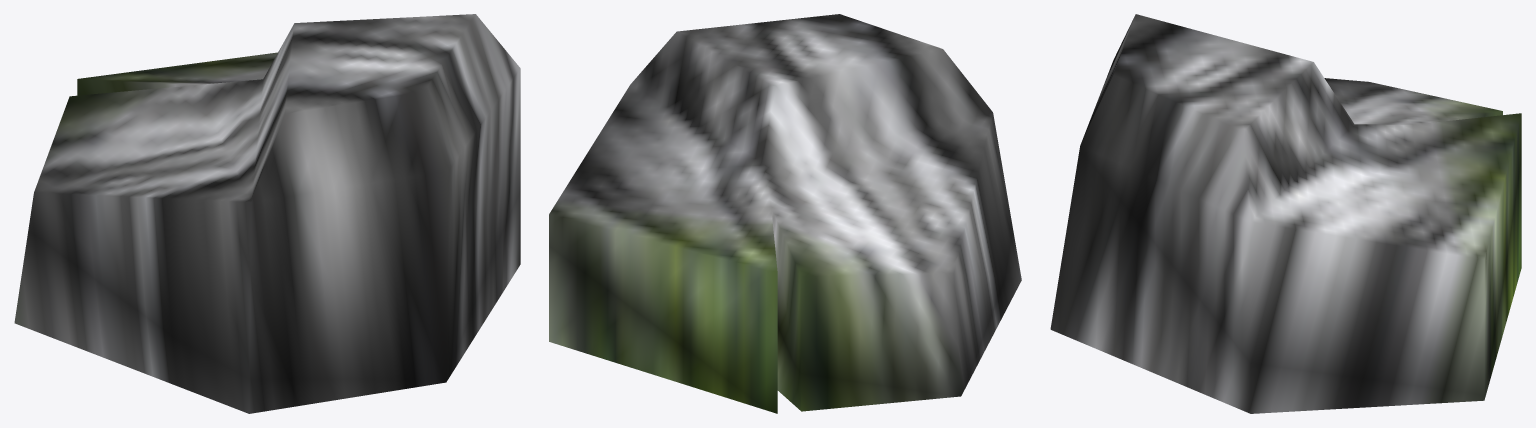
Rendered from Rock2.fbx.
3 renders of one model, left to right at view 1: azimuth 30°, elevation 25°; view 2: azimuth 150°, elevation 25°; view 3: azimuth 270°, elevation 25°, orthographic. The views are drawn at different scales.
Visible parts, largest first — view 1: Rock2; view 2: Rock2; view 3: Rock2.
Part boxes in pixels (x1,y1,x2,y2): Rock2: (14,14,520,413); Rock2: (549,14,1021,413); Rock2: (1050,14,1521,413).
Bounding box in the file's own units: 180 × 103 × 170.
